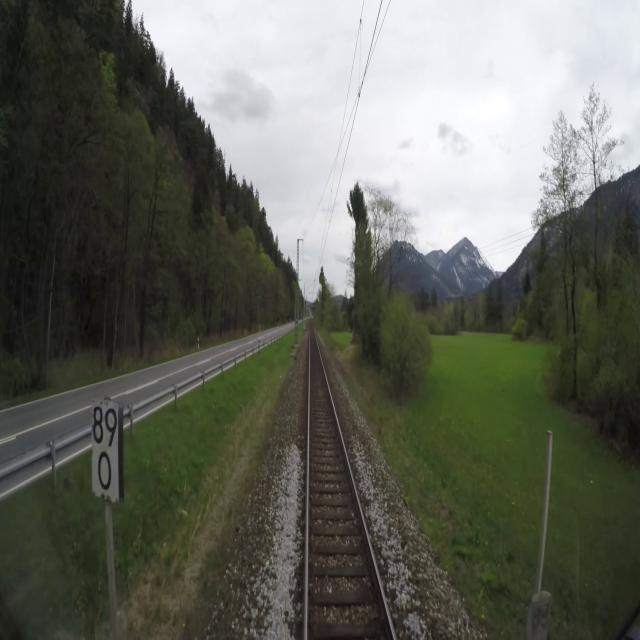rail-track: (308, 323, 392, 639)
